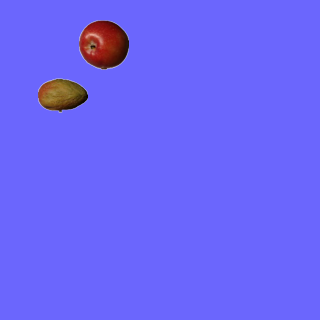Apple Braeburn: (78, 19, 128, 69)
Papaya: (37, 70, 87, 120)
